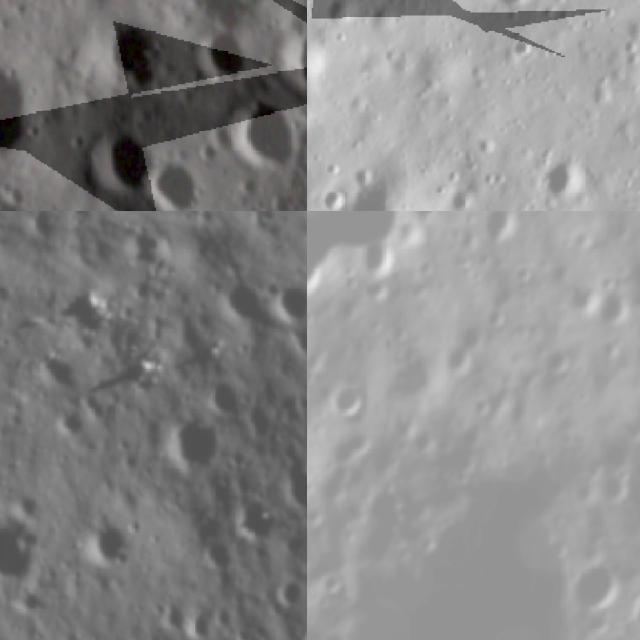crater: (307, 211, 439, 323), (68, 0, 186, 116), (64, 106, 190, 211), (204, 75, 307, 198), (0, 21, 68, 195), (181, 12, 268, 104), (128, 137, 234, 211), (261, 0, 307, 123), (560, 555, 635, 628), (373, 345, 448, 417), (0, 512, 52, 593), (319, 416, 380, 478), (163, 410, 223, 467), (460, 211, 531, 258), (347, 232, 406, 288), (82, 517, 140, 569), (220, 272, 276, 325), (225, 492, 283, 542), (121, 217, 172, 272), (28, 349, 83, 396), (323, 374, 370, 426), (592, 282, 640, 332), (202, 372, 244, 422), (148, 592, 191, 638), (267, 276, 307, 323), (534, 341, 576, 385), (307, 26, 331, 95), (277, 464, 307, 517), (314, 565, 354, 604), (201, 538, 239, 576), (503, 30, 539, 69), (49, 406, 86, 443), (180, 609, 217, 640), (278, 575, 307, 609), (485, 0, 540, 16), (626, 583, 640, 640), (351, 0, 400, 15), (288, 322, 307, 359)
